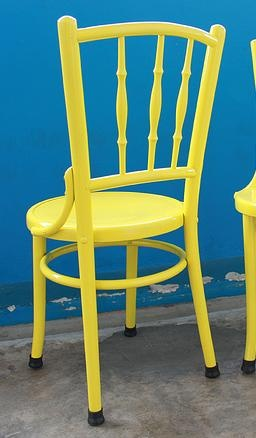obstacle: (26, 16, 224, 425)
